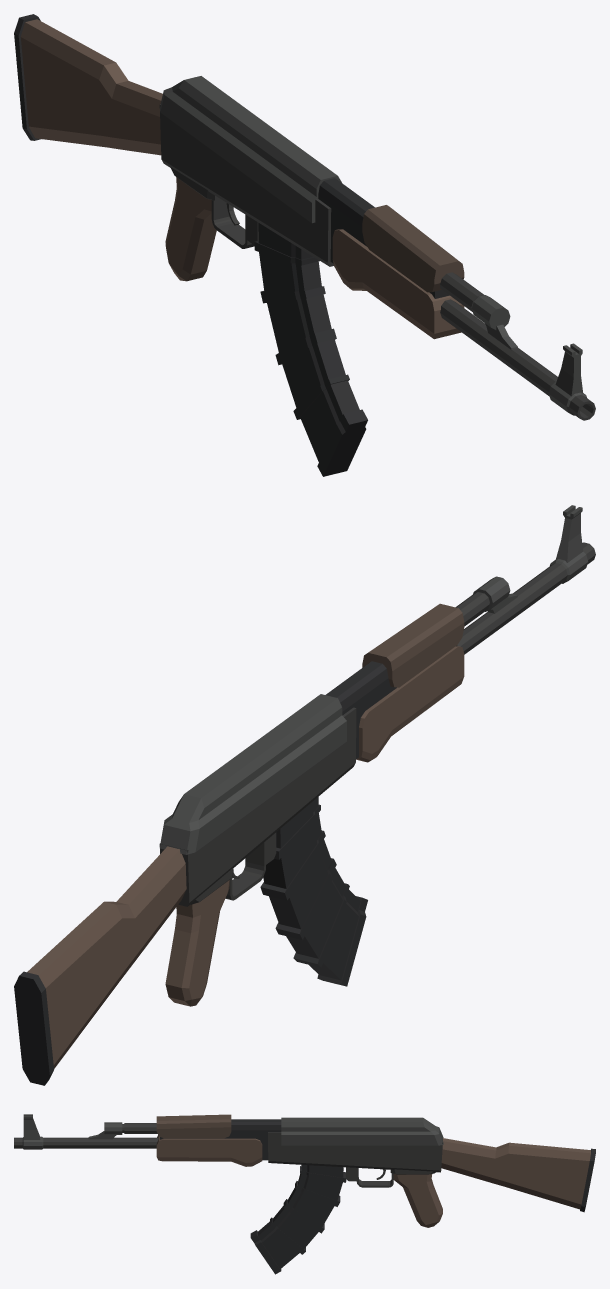
Rendered from AssaultRifle_2.gltf.
3 renders of one model, top to bottom at view 1: azimuth 30°, elevation 25°; view 2: azimuth 150°, elevation 25°; view 3: azimuth 270°, elevation 25°, orthographic. The views are drawn at different scales.
Parts seen in each view (by area): view 1: AssaultRifle_2; view 2: AssaultRifle_2; view 3: AssaultRifle_2.
Part boxes in pixels (box(x1,y1,x2,y2)): AssaultRifle_2: box(14, 14, 595, 476); AssaultRifle_2: box(14, 505, 595, 1085); AssaultRifle_2: box(14, 1114, 595, 1274).
Bounding box in the file's own units: 0.196 × 1.6 × 5.42.
